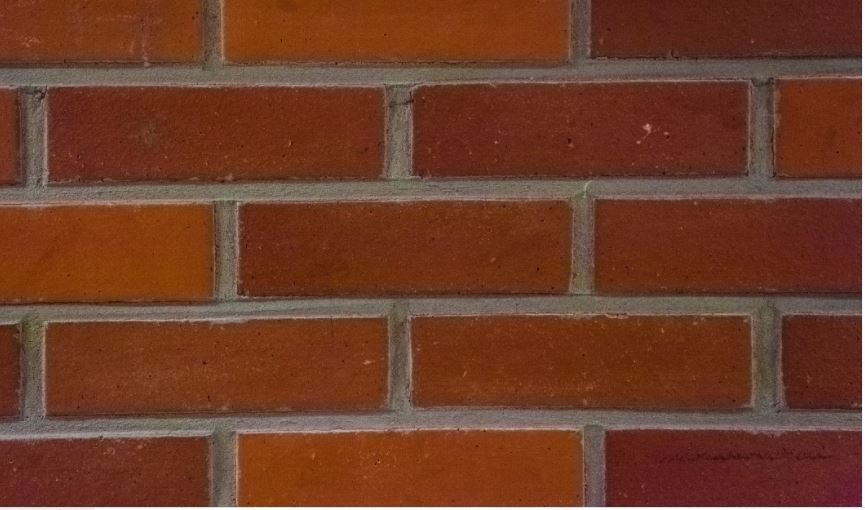brick: (406, 310, 759, 417), (41, 317, 395, 418), (42, 83, 388, 181), (407, 83, 754, 177), (235, 201, 574, 296), (231, 426, 589, 510), (592, 193, 863, 302), (1, 200, 225, 306), (223, 1, 557, 70), (601, 426, 865, 508), (584, 1, 862, 65), (1, 430, 216, 508), (1, 1, 210, 68), (766, 76, 864, 183), (781, 308, 865, 415)
